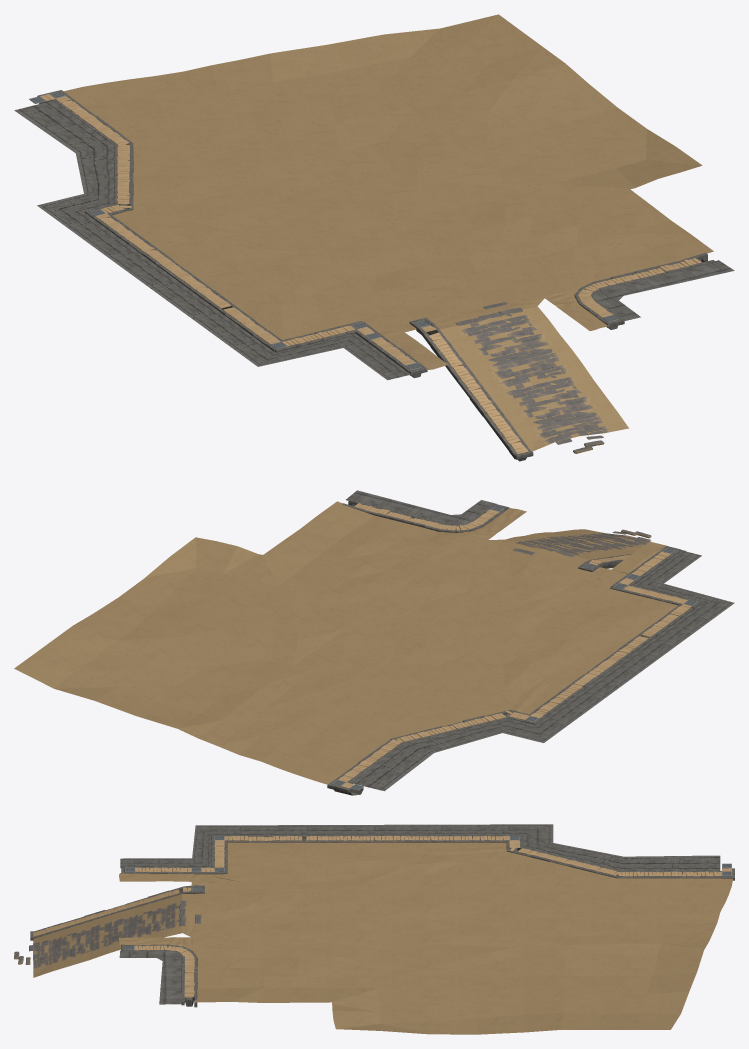
Rendered from SM_ENV_KNVLLG_ground_06.fbx.
The picture shows the model from 3 angles, top to bottom: view 1: azimuth 30°, elevation 25°; view 2: azimuth 150°, elevation 25°; view 3: azimuth 270°, elevation 25°; orthographic projection. The views are drawn at different scales.
Visible parts, largest first — view 1: SM_ENV_KNVLLG_ground_06.mo; view 2: SM_ENV_KNVLLG_ground_06.mo; view 3: SM_ENV_KNVLLG_ground_06.mo.
Boxes of the visible parts, <box> form: SM_ENV_KNVLLG_ground_06.mo: <box>14,14,734,461</box>; SM_ENV_KNVLLG_ground_06.mo: <box>14,490,734,795</box>; SM_ENV_KNVLLG_ground_06.mo: <box>14,824,734,1034</box>.
Bounding box in the file's own units: 10280 × 1299 × 14773.
